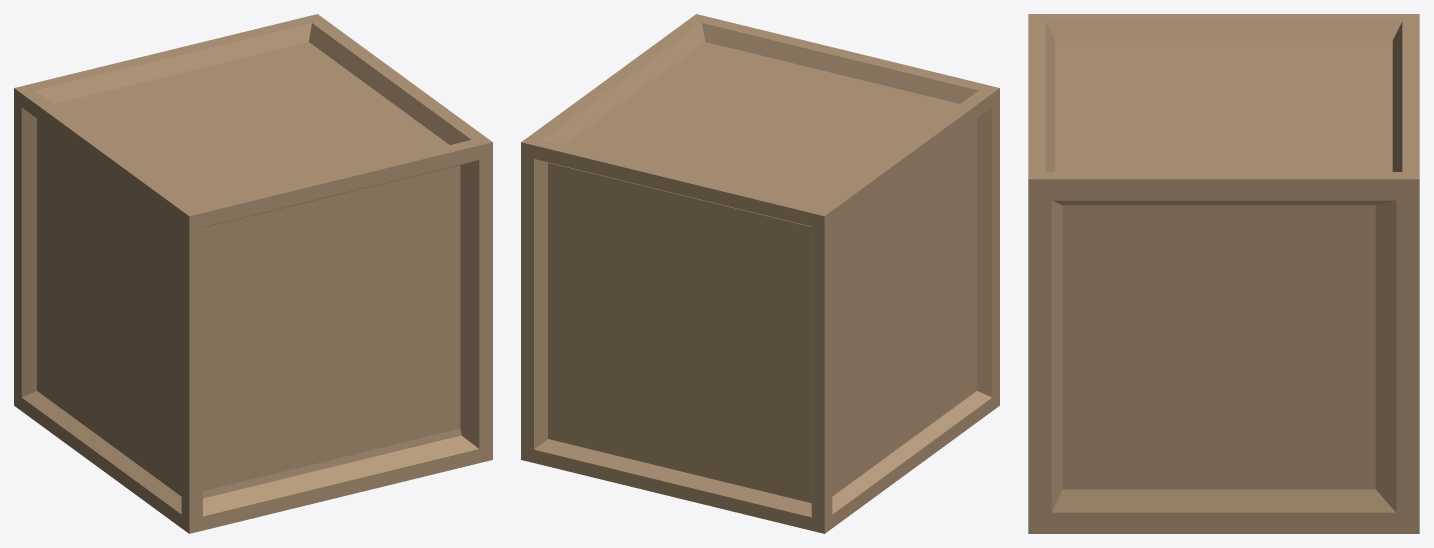
The model's file is _ToyBlock.fbx.
The picture shows the model from 3 angles, left to right: view 1: azimuth 30°, elevation 25°; view 2: azimuth 150°, elevation 25°; view 3: azimuth 270°, elevation 25°; orthographic projection. The views are drawn at different scales.
Parts seen in each view (by area): view 1: Cube; view 2: Cube; view 3: Cube.
Part boxes in pixels (left/top/right/bottom): Cube: left=14, top=14, right=492, bottom=533; Cube: left=521, top=14, right=999, bottom=533; Cube: left=1028, top=14, right=1419, bottom=533.
Bounding box in the file's own units: 200 × 200 × 200.
